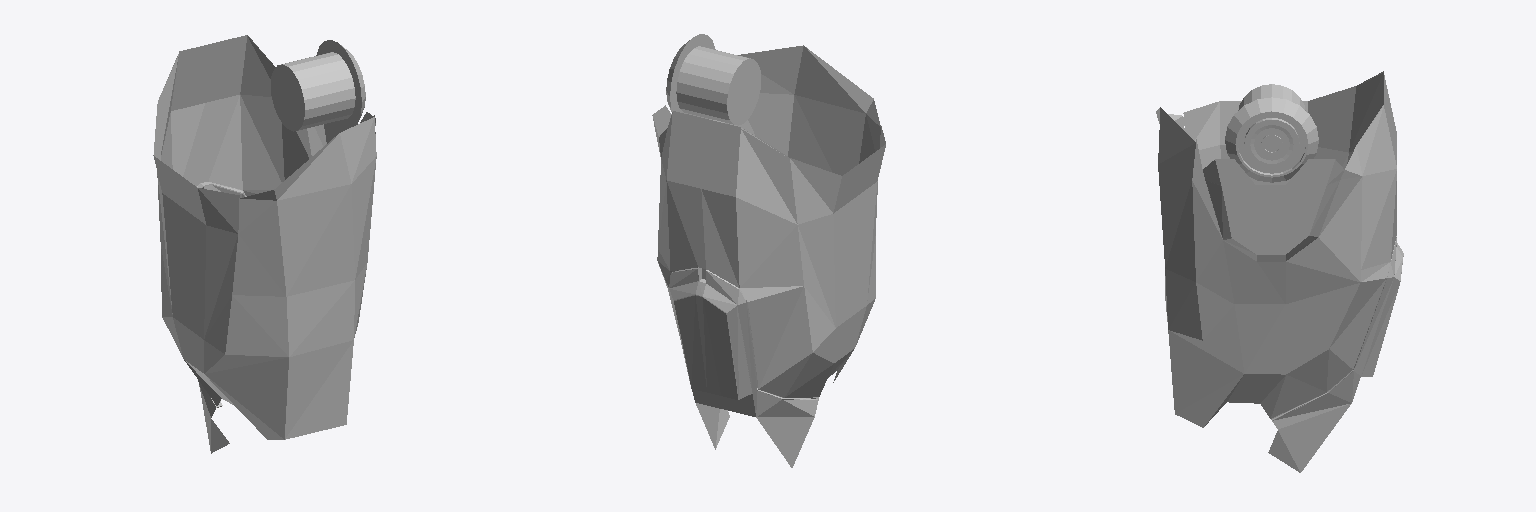
The model's file is RightLeg.obj.
3 renders of one model, left to right at view 1: azimuth 30°, elevation 25°; view 2: azimuth 150°, elevation 25°; view 3: azimuth 270°, elevation 25°, orthographic.
Parts seen in each view (by area): view 1: Mesh.001_Mesh.001_Mesh.029_polySurface632_polySurface636_polySur, Mesh_Mesh_Mesh.034_polySurface632_polySurface665_polySurface636, Mesh.002_Mesh.003_Mesh.011_polySurface632_polySurface640, Mesh.004_Mesh.002_Mesh.030_polySurface632_polySurface638, Mesh.003_Mesh.004_Mesh.031_polySurface632_polySurface637; view 2: Mesh.001_Mesh.001_Mesh.029_polySurface632_polySurface636_polySur, Mesh_Mesh_Mesh.034_polySurface632_polySurface665_polySurface636, Mesh.002_Mesh.003_Mesh.011_polySurface632_polySurface640; view 3: Mesh.001_Mesh.001_Mesh.029_polySurface632_polySurface636_polySur, Mesh.004_Mesh.002_Mesh.030_polySurface632_polySurface638, Mesh.003_Mesh.004_Mesh.031_polySurface632_polySurface637, Mesh.002_Mesh.003_Mesh.011_polySurface632_polySurface640, Mesh_Mesh_Mesh.034_polySurface632_polySurface665_polySurface636.
Boxes of the visible parts, box(x1,y1,x2,y2) form: Mesh.001_Mesh.001_Mesh.029_polySurface632_polySurface636_polySur: box(158, 35, 376, 453); Mesh_Mesh_Mesh.034_polySurface632_polySurface665_polySurface636: box(153, 104, 239, 373); Mesh.002_Mesh.003_Mesh.011_polySurface632_polySurface640: box(271, 40, 365, 131); Mesh.004_Mesh.002_Mesh.030_polySurface632_polySurface638: box(282, 115, 375, 179); Mesh.003_Mesh.004_Mesh.031_polySurface632_polySurface637: box(307, 112, 375, 155); Mesh.001_Mesh.001_Mesh.029_polySurface632_polySurface636_polySur: box(657, 45, 880, 467); Mesh_Mesh_Mesh.034_polySurface632_polySurface665_polySurface636: box(790, 126, 885, 362); Mesh.002_Mesh.003_Mesh.011_polySurface632_polySurface640: box(666, 34, 760, 125); Mesh.001_Mesh.001_Mesh.029_polySurface632_polySurface636_polySur: box(1156, 71, 1403, 472); Mesh.004_Mesh.002_Mesh.030_polySurface632_polySurface638: box(1192, 139, 1362, 374); Mesh.003_Mesh.004_Mesh.031_polySurface632_polySurface637: box(1203, 159, 1343, 261); Mesh.002_Mesh.003_Mesh.011_polySurface632_polySurface640: box(1225, 84, 1318, 182); Mesh_Mesh_Mesh.034_polySurface632_polySurface665_polySurface636: box(1183, 86, 1355, 184).
Bounding box in the file's own units: 8.78 × 18.68 × 10.68.